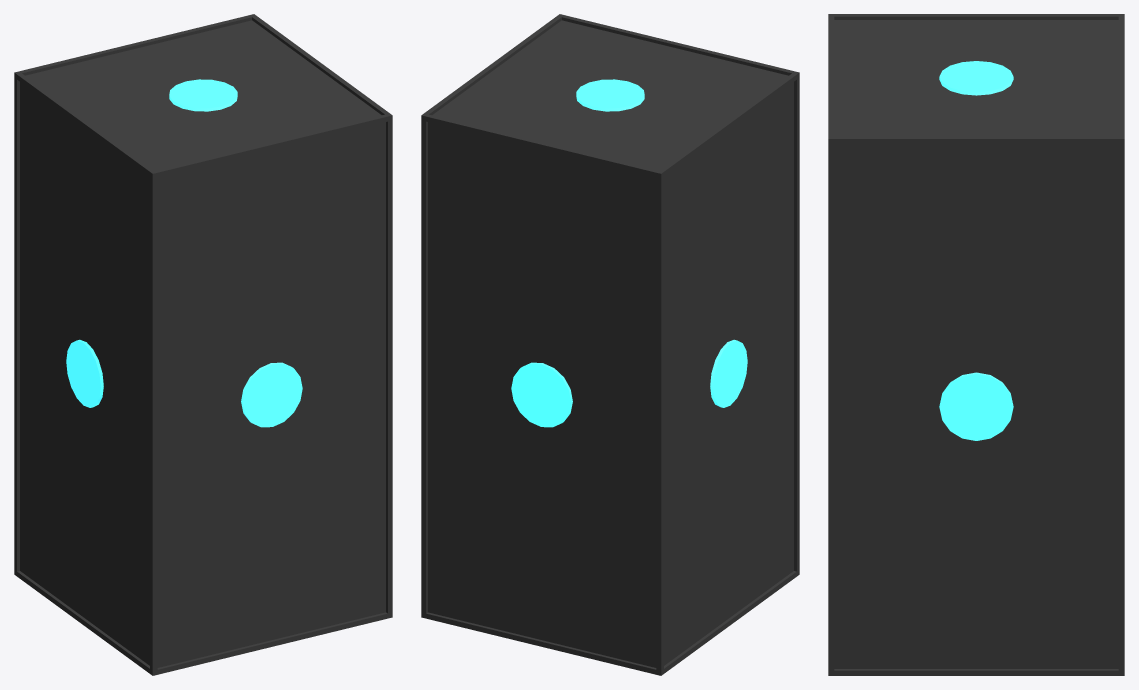
The model's file is Rectangle Building Block Model.fbx.
The picture shows the model from 3 angles, left to right: view 1: azimuth 30°, elevation 25°; view 2: azimuth 150°, elevation 25°; view 3: azimuth 270°, elevation 25°; orthographic projection. The views are drawn at different scales.
Parts seen in each view (by area): view 1: Rectangle Building Block; view 2: Rectangle Building Block; view 3: Rectangle Building Block.
Part boxes in pixels (bbox=[...]): Rectangle Building Block: bbox=[14, 14, 392, 675]; Rectangle Building Block: bbox=[421, 14, 799, 675]; Rectangle Building Block: bbox=[828, 14, 1124, 675].
Size of the model in its own units: 200 by 400 by 200.
